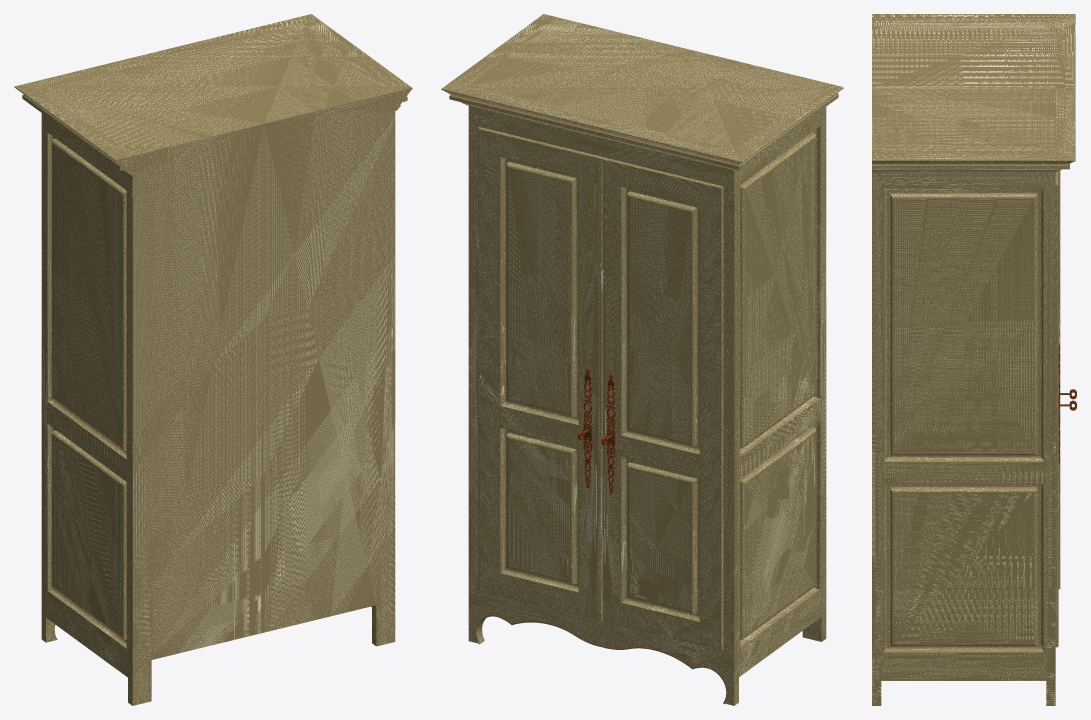
The picture shows the model from 3 angles, left to right: view 1: azimuth 30°, elevation 25°; view 2: azimuth 150°, elevation 25°; view 3: azimuth 270°, elevation 25°; orthographic projection.
Parts seen in each view (by area): view 1: mesh20_mesh20-geometry, mesh10_mesh10-geometry; view 2: mesh20_mesh20-geometry, mesh10_mesh10-geometry, mesh5_mesh5-geometry, mesh15_mesh15-geometry; view 3: mesh10_mesh10-geometry, mesh20_mesh20-geometry.
Part boxes in pixels (x1,y1,x2,y2): mesh20_mesh20-geometry: (14,50,263,705); mesh10_mesh10-geometry: (163,14,412,646); mesh20_mesh20-geometry: (591,50,843,705); mesh10_mesh10-geometry: (441,14,693,646); mesh5_mesh5-geometry: (583,368,592,487); mesh15_mesh15-geometry: (606,374,615,493); mesh10_mesh10-geometry: (872,87,1075,705); mesh20_mesh20-geometry: (872,14,1075,86).
Bounding box in the file's own units: 0.4723 × 0.836 × 0.2794.
